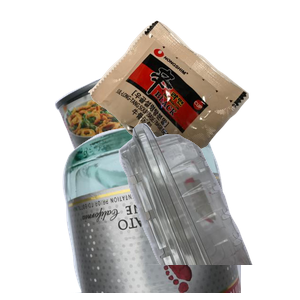glass: (60, 120, 300, 300)
metal: (52, 57, 260, 237)
plastic: (71, 120, 300, 300)
trash: (86, 18, 300, 194)
